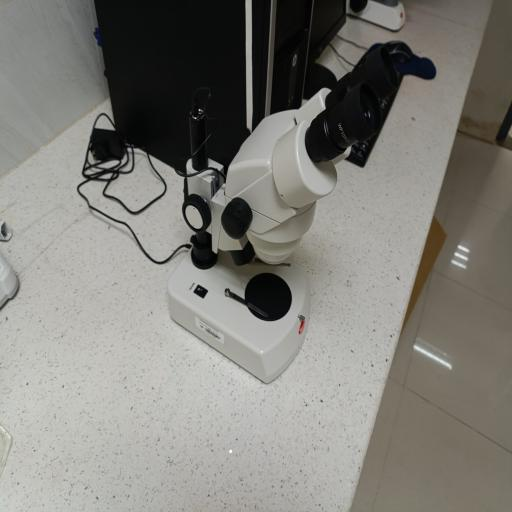Microscopio_estereo: (120, 32, 452, 394)
